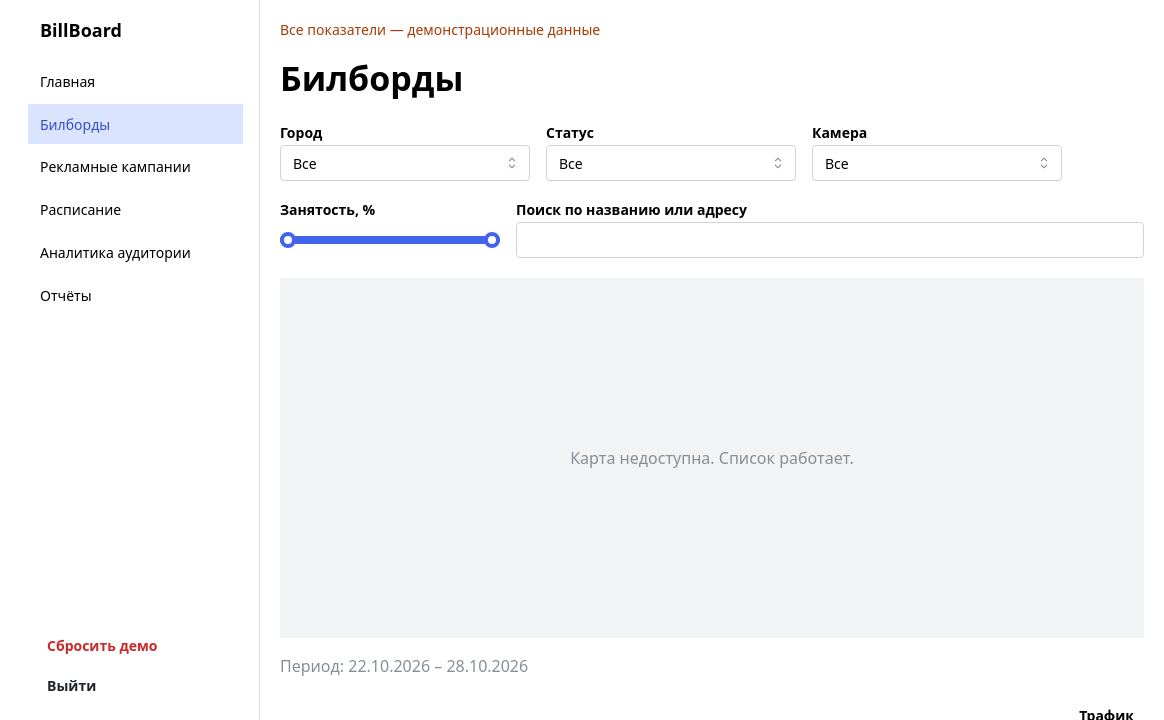
Test: [f03-04-billboards] list stays usable when the map fails
The width and height of the screenshot is (1164, 720).
Expected: the text "Карта недоступна. Список работает." is shown, [570,446,854,470]
In the search field labelled "Поиск по названию или адресу": (830, 240) [516,222,1144,258], type "  УЧЕБНАЯ "
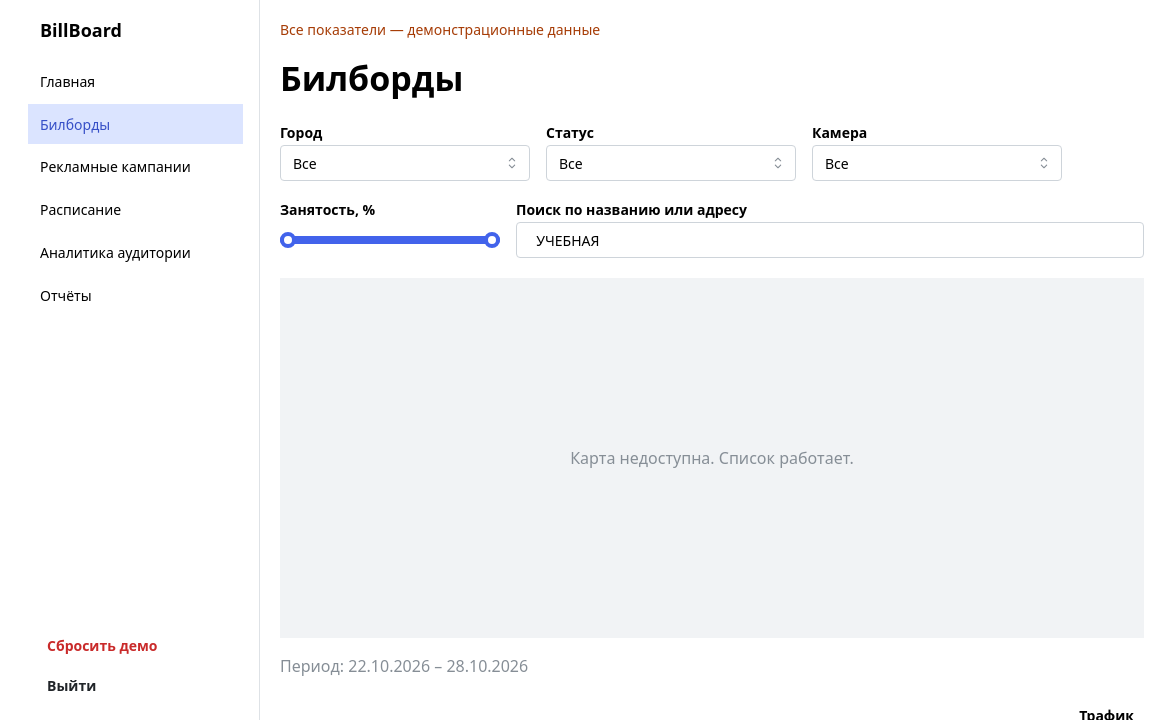
Click the dropdown labelled "Камера": (937, 163) [812,145,1062,181]
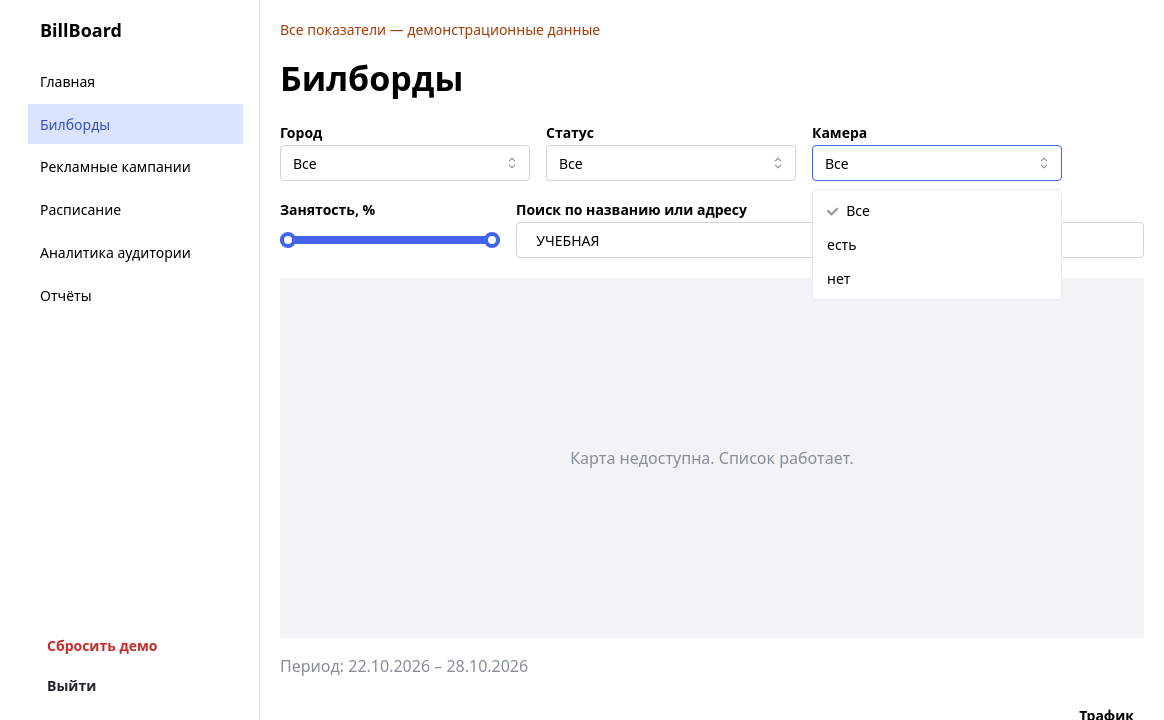
Click the option "есть": (842, 244) [827,235,857,254]
(page scrolled)
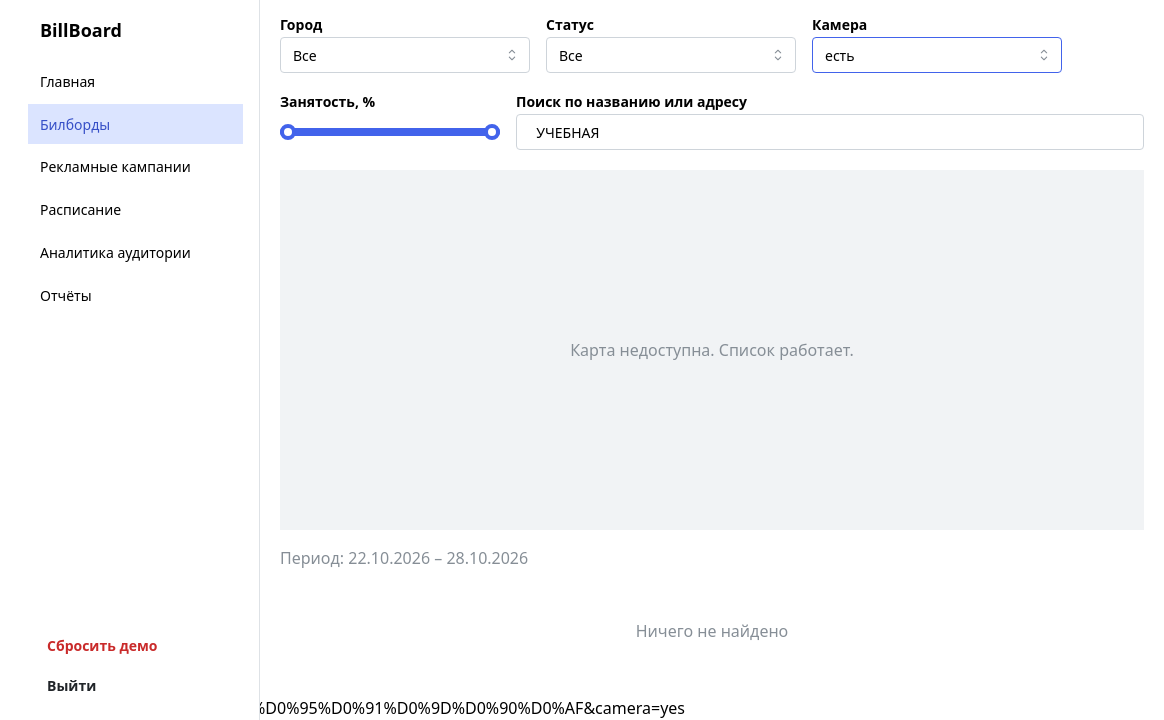
Expected: the text "Ничего не найдено" is shown, [636,620,788,642]
